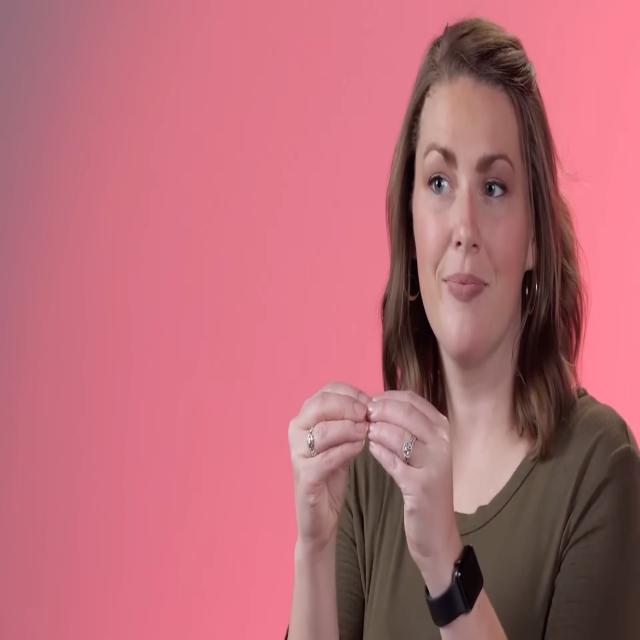more: (253, 356, 497, 618)
